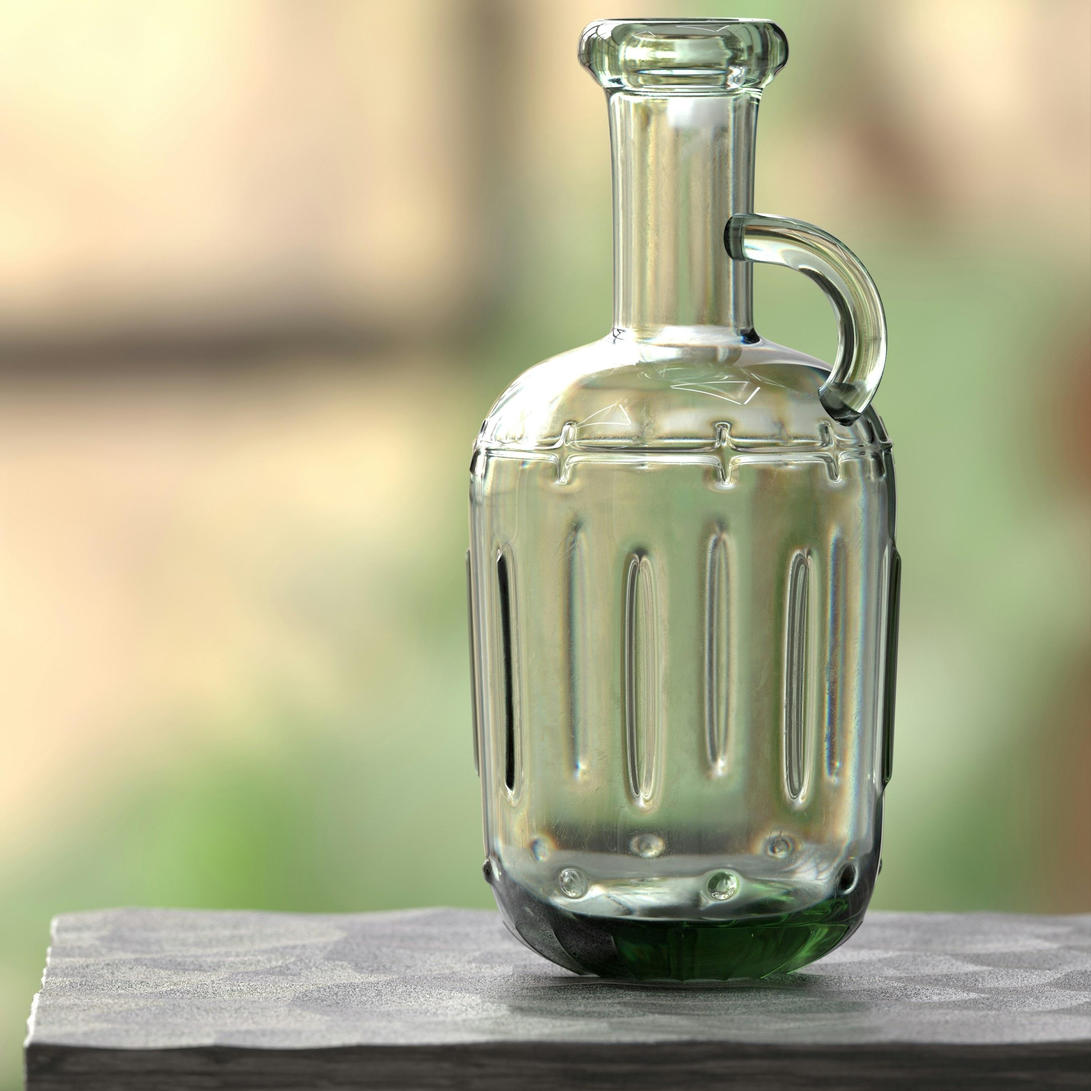Bottle-Detection: (418, 0, 956, 1047)
